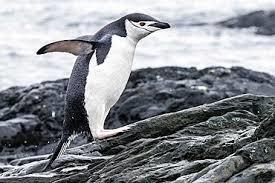chinstrap: (36, 8, 170, 156)
